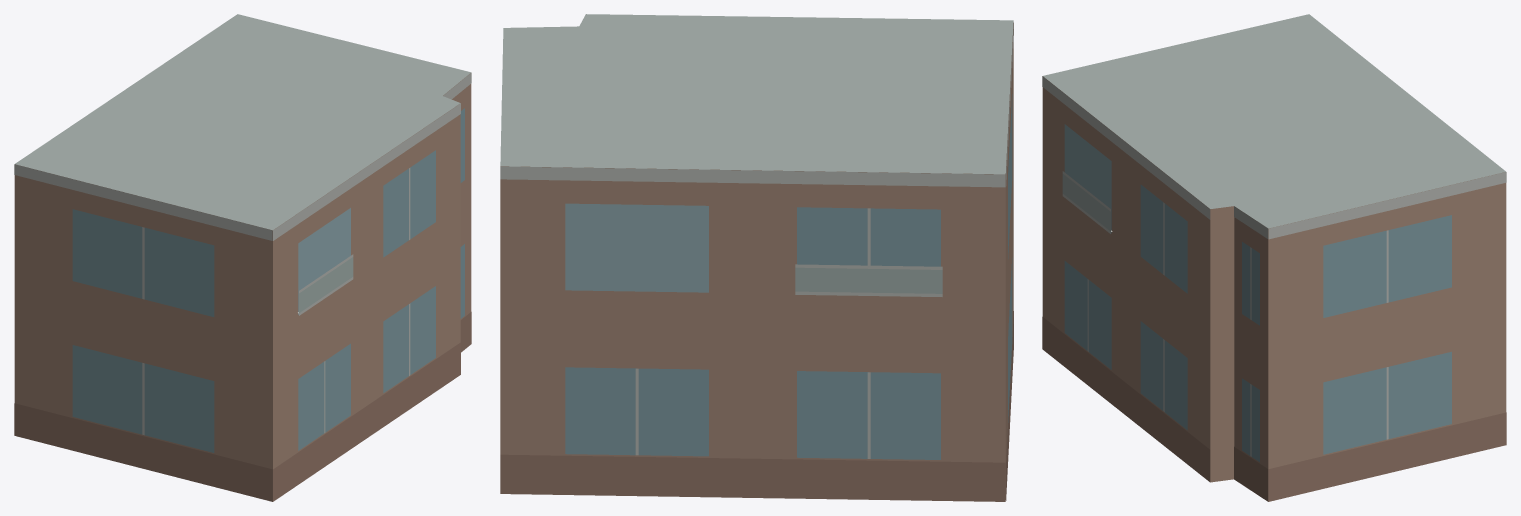
File: survey-upis-32689459.glb
3 renders of one model, left to right at view 1: azimuth 30°, elevation 25°; view 2: azimuth 150°, elevation 25°; view 3: azimuth 270°, elevation 25°, orthographic. The views are drawn at different scales.
Visible parts, largest first — view 1: survey-upis-32689459.tmp; view 2: survey-upis-32689459.tmp; view 3: survey-upis-32689459.tmp.
Boxes of the visible parts, bbox=[...] form: survey-upis-32689459.tmp: bbox=[14, 14, 471, 501]; survey-upis-32689459.tmp: bbox=[500, 14, 1013, 501]; survey-upis-32689459.tmp: bbox=[1042, 14, 1506, 501].
Bounding box in the file's own units: 10.28 × 6.1 × 9.39.
